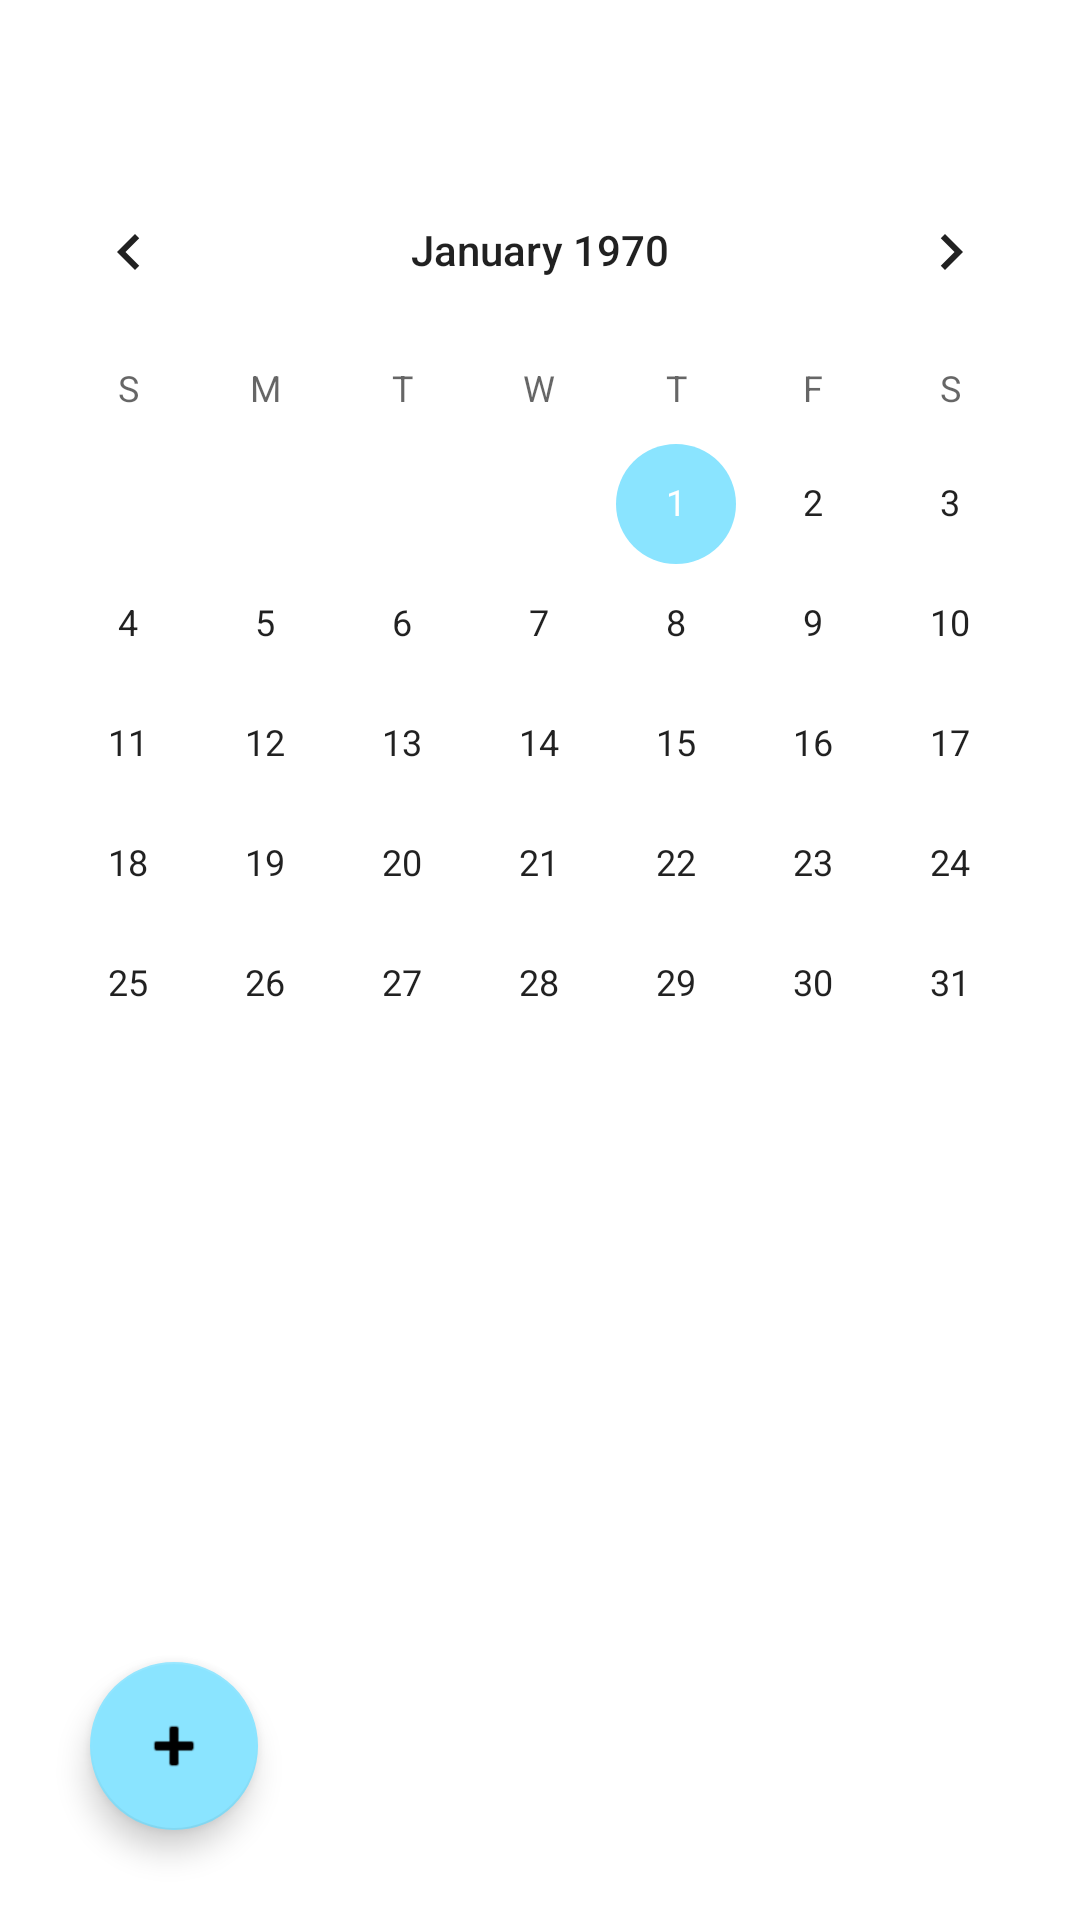

Screen size 1080px×1920px. Icon name, then its center in pixels as (x,y):
add: (174,1746)
